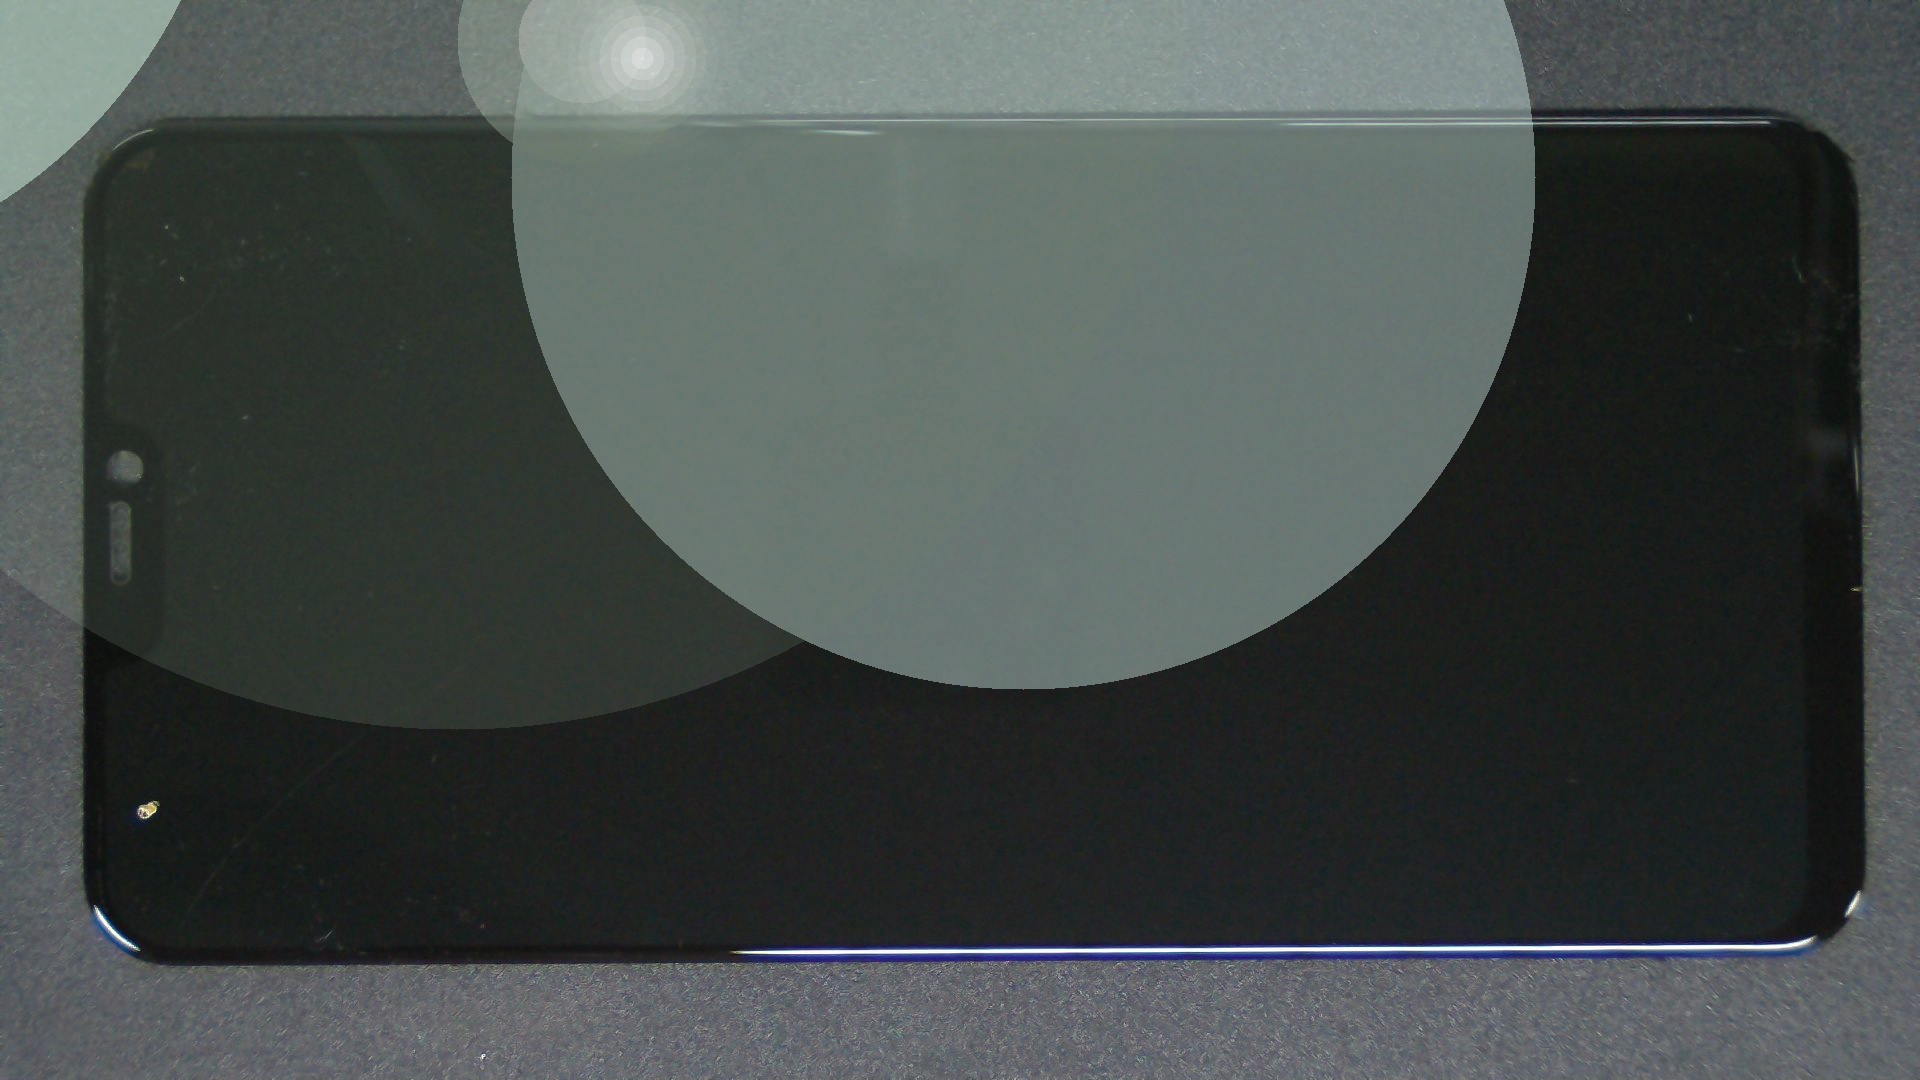oil: (76, 397, 222, 1080)
